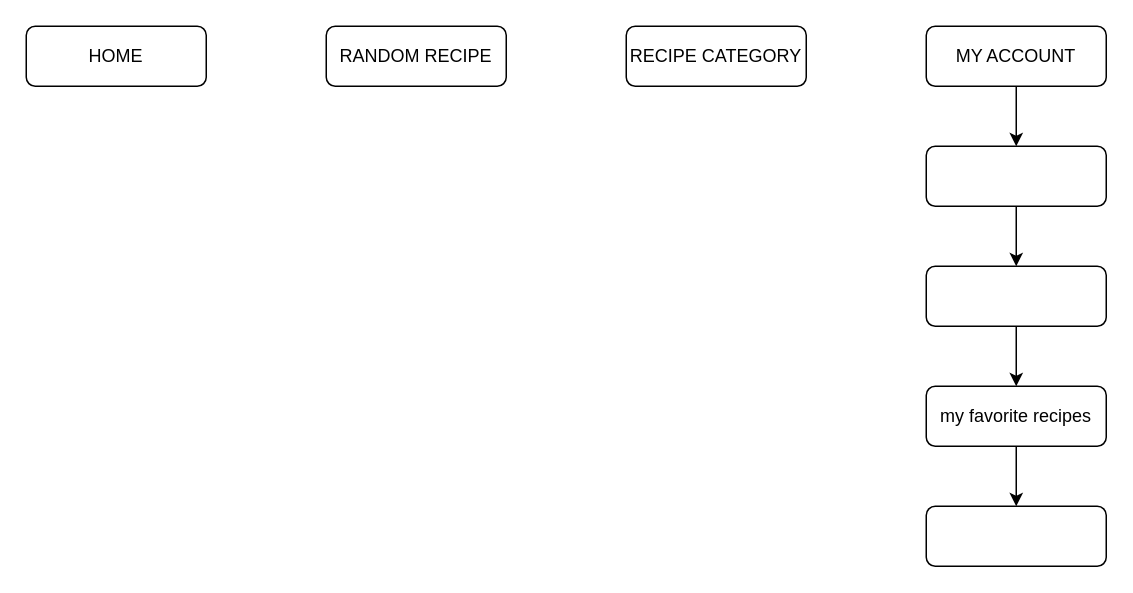
The diagram is 1133 pixels wide and 593 high, and some of its shapes have lost their labels. The box of each missing label's shape, as (x1, y1, x2, y2) in pixels:
add recipe: (925, 145, 1106, 206)
logout: (925, 505, 1106, 566)
my recipes: (925, 265, 1106, 326)
